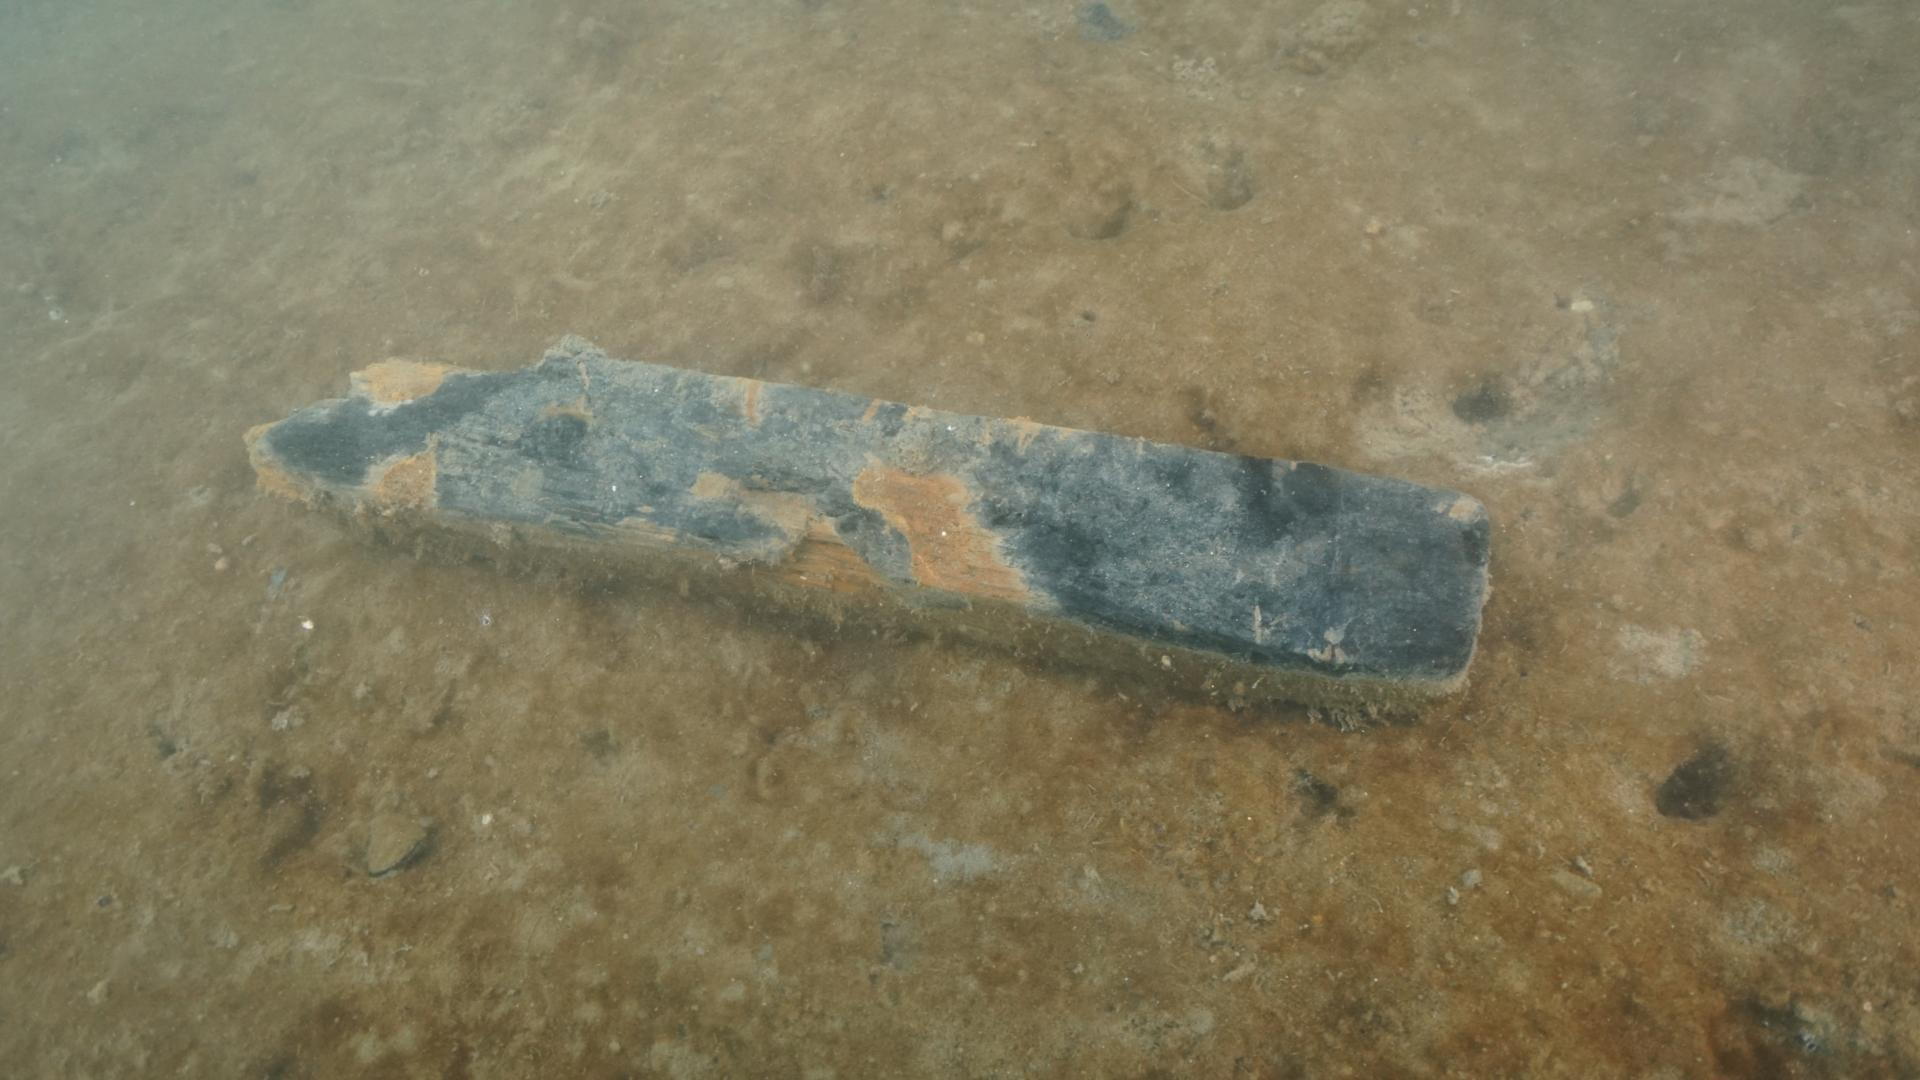wood: (244, 330, 1487, 728)
